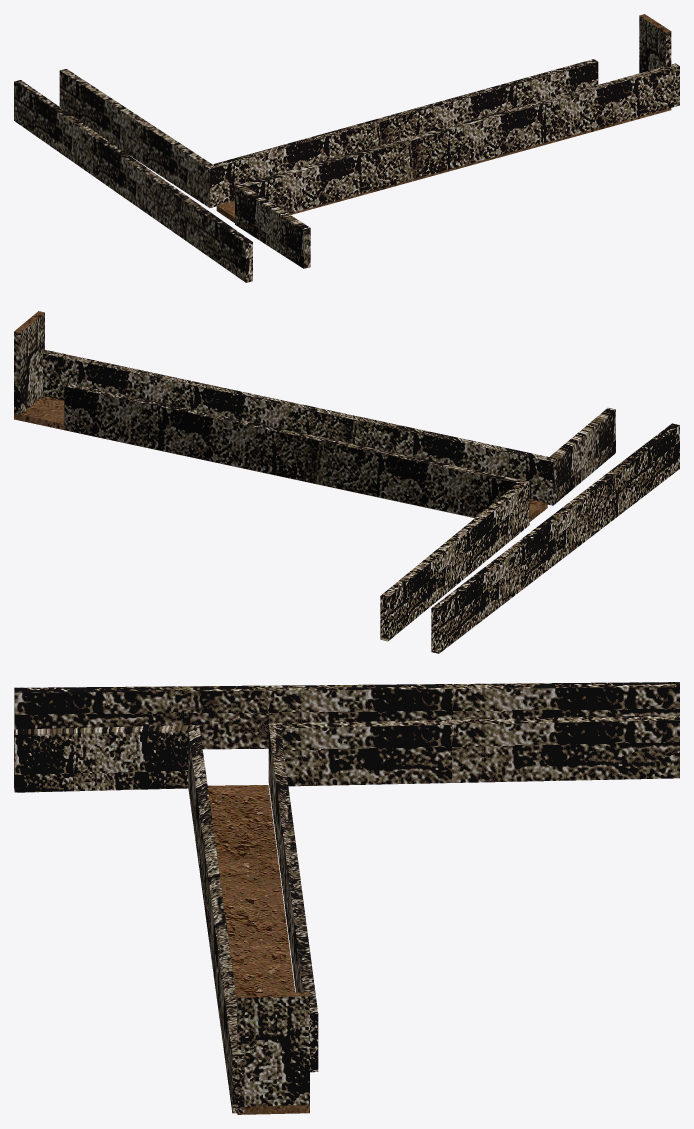
Rendered from taishanWalls.glb.
3 views of the same model, one above another, from view 1: azimuth 30°, elevation 25°; view 2: azimuth 150°, elevation 25°; view 3: azimuth 270°, elevation 25° (orthographic). The views are drawn at different scales.
Parts seen in each view (by area): view 1: tai-shan-walls; view 2: tai-shan-walls; view 3: tai-shan-walls.
Boxes of the visible parts, x1,y1,x2,y2 form: tai-shan-walls: [14, 14, 679, 282]; tai-shan-walls: [14, 311, 679, 653]; tai-shan-walls: [14, 682, 679, 1114].
Bounding box in the file's own units: 58.13 × 8.51 × 43.84.
Materials: 2 (2 with a texture image).
